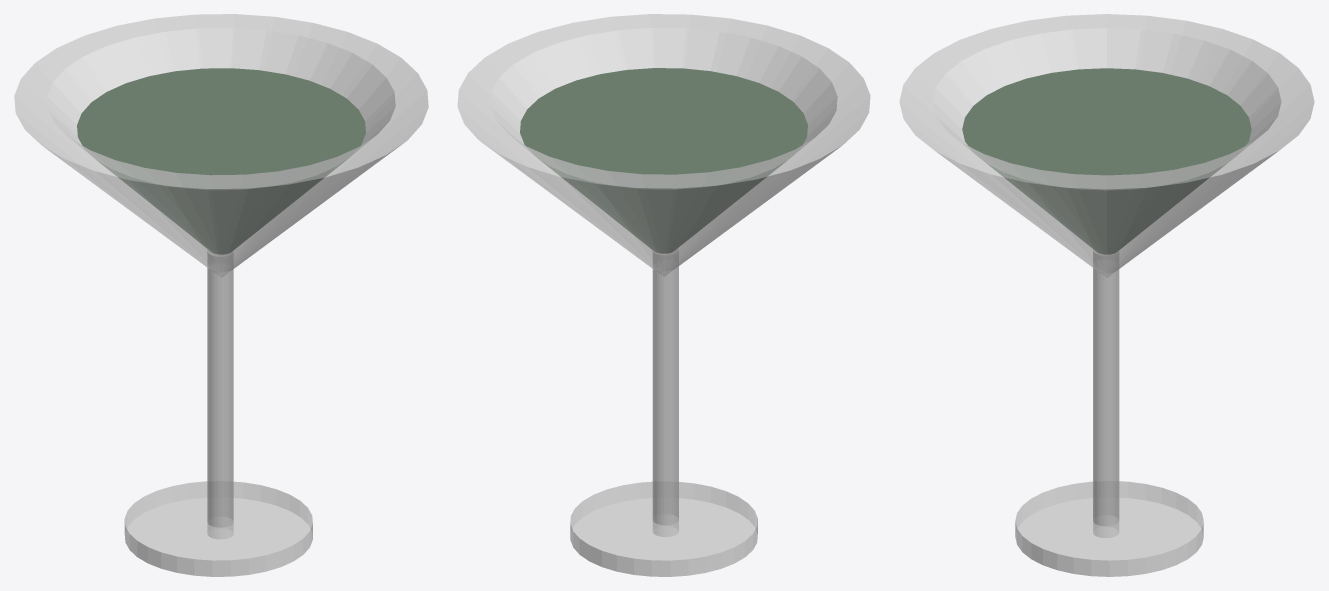
Rendered from CocktailGlass.glb.
3 views of the same model, side by side, from view 1: azimuth 30°, elevation 25°; view 2: azimuth 150°, elevation 25°; view 3: azimuth 270°, elevation 25° (orthographic).
Visible parts, largest first — view 1: Glasses.003, Cone.003; view 2: Glasses.003, Cone.003; view 3: Glasses.003, Cone.003.
Boxes of the visible parts, bbox=[...] form: Glasses.003: bbox=[14, 14, 428, 576]; Cone.003: bbox=[77, 68, 365, 254]; Glasses.003: bbox=[457, 14, 870, 576]; Cone.003: bbox=[520, 68, 807, 253]; Glasses.003: bbox=[899, 14, 1314, 576]; Cone.003: bbox=[962, 68, 1251, 254].
Size of the model in its own units: 0.1544 by 0.1789 by 0.1544.
2 materials, 1 textured.
